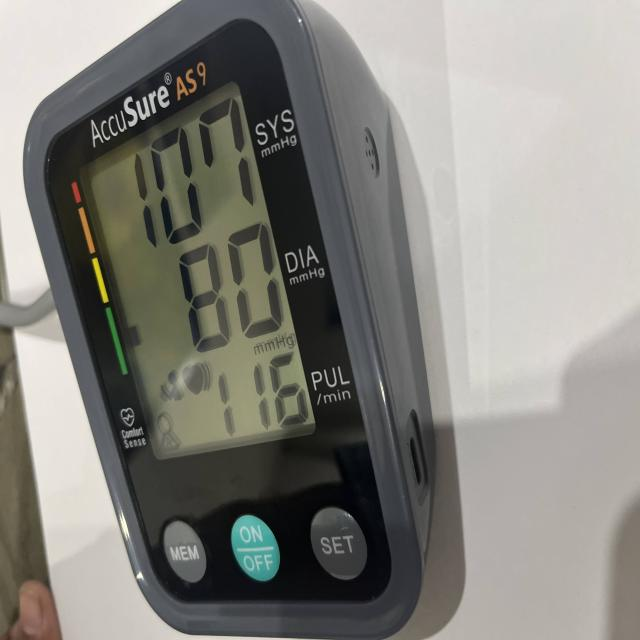bp: (23, 0, 439, 640)
